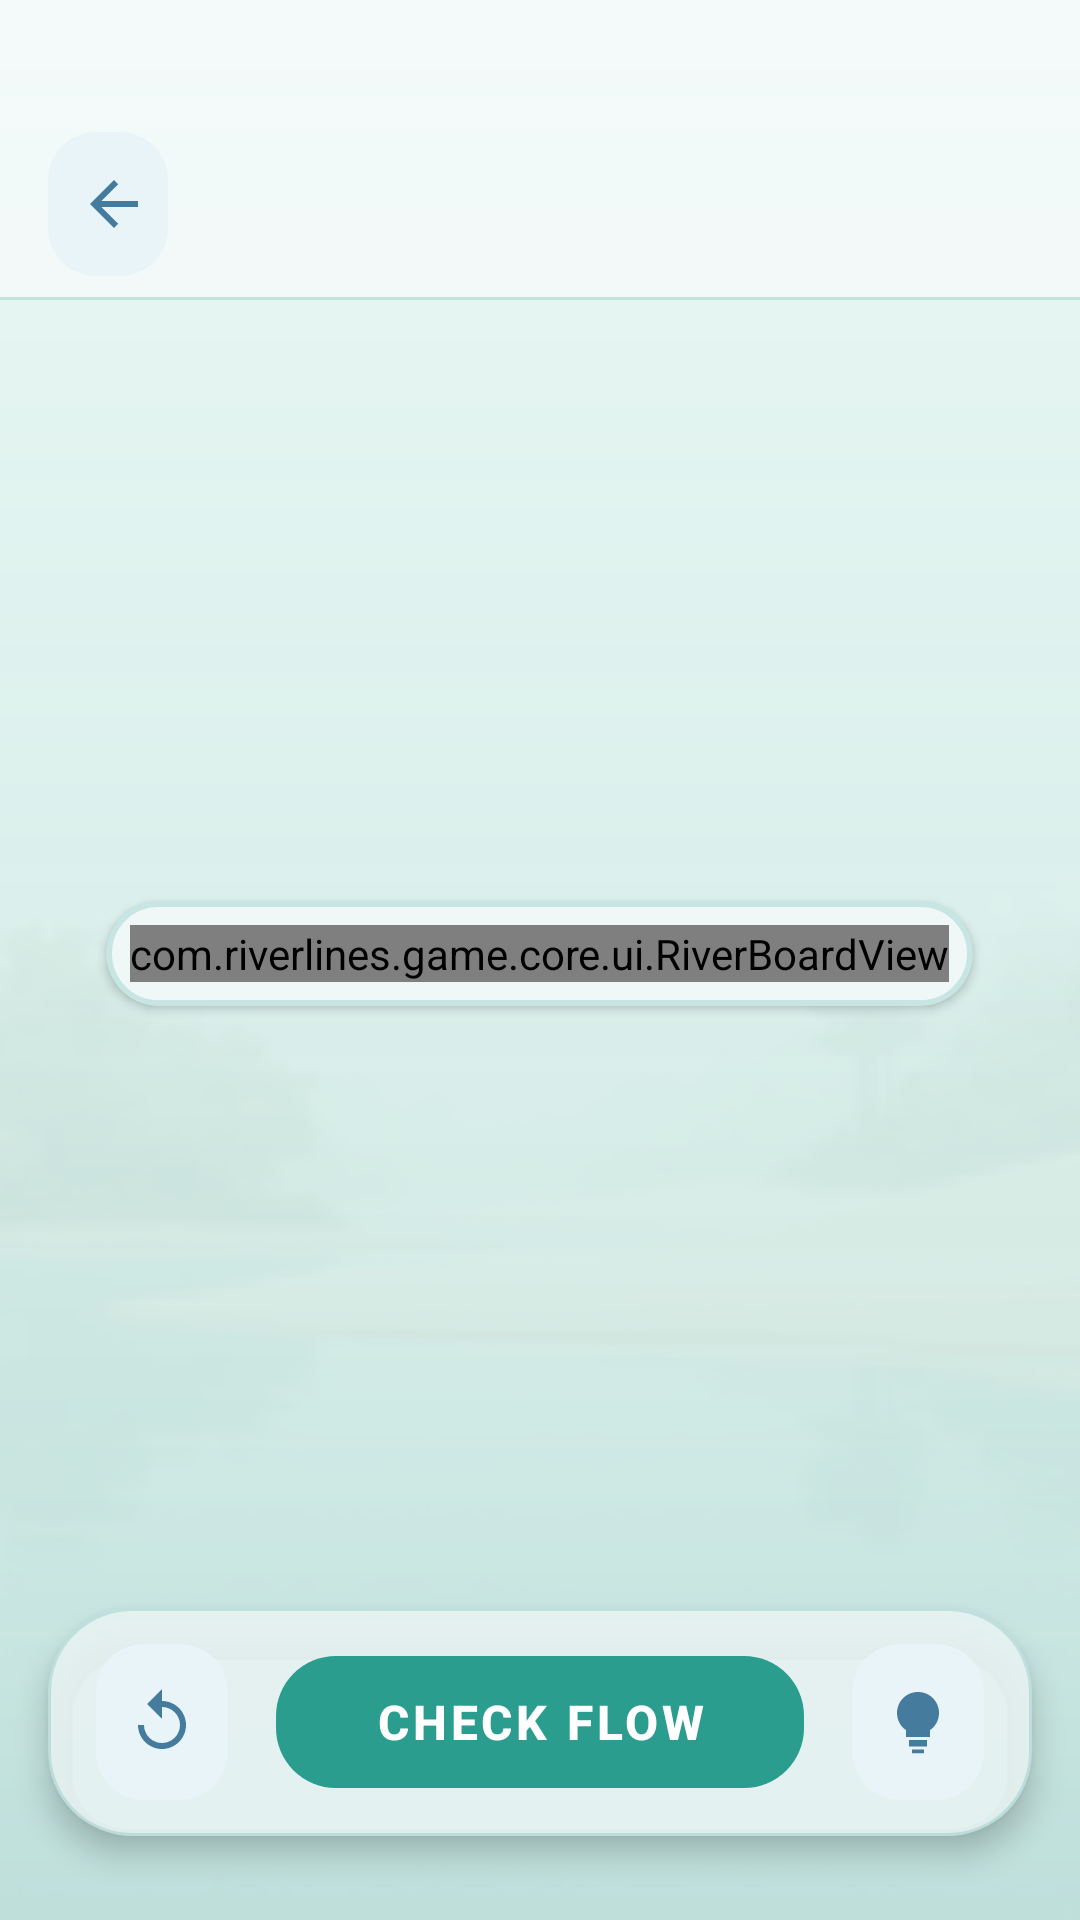

Named icons in this screenshot (1080*1920) and their bounding boxes, [x1=x1, y1=y1, x2=x2, y2=y2]:
BACK: [x1=48, y1=132, x2=168, y2=276]
SHOW A HINT: [x1=897, y1=1692, x2=939, y2=1754]
UNDO LAST TURN: [x1=138, y1=1689, x2=186, y2=1749]
